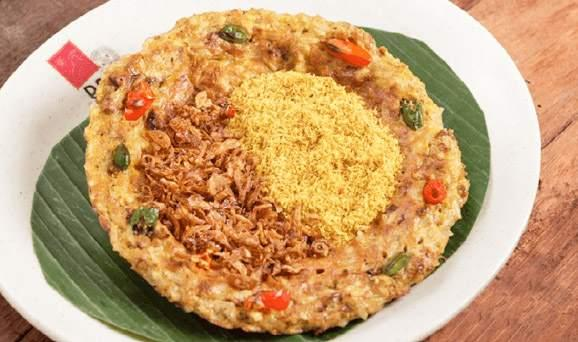kerak_telor: (83, 8, 470, 336)
